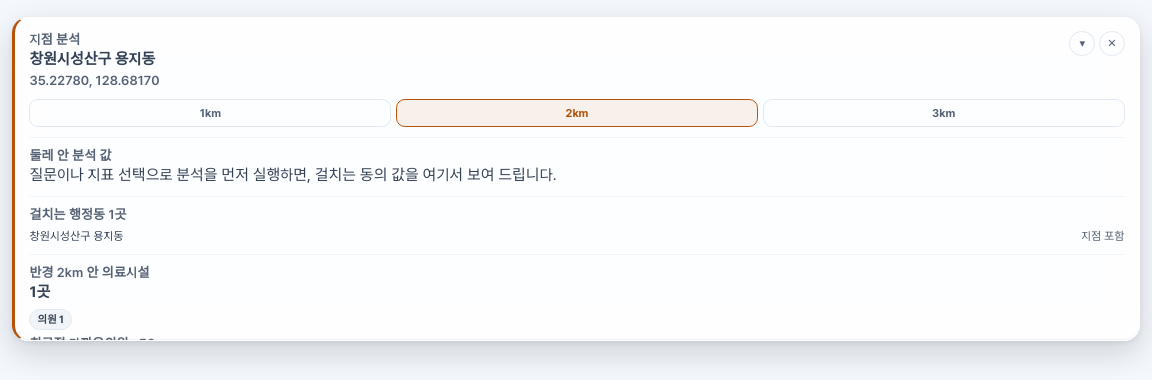
Scenario: 지점 분석 카드 접기 › 접으면 본문이 사라진다
What coordinates should you click on to do the following:
click the button with test id "probe-collapse"
I would click on:
 (1082, 44)
Its box is [1069,31,1095,56].
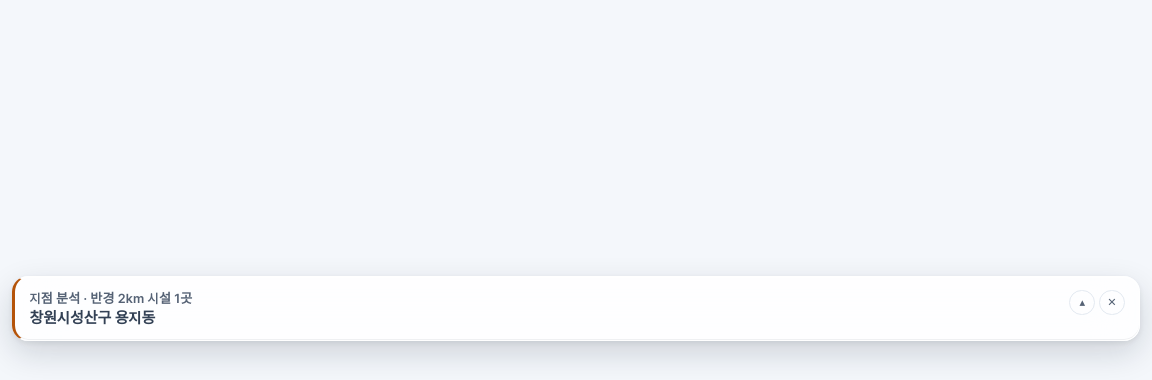
Now the text "걸치는 행정동 1곳" is gone
